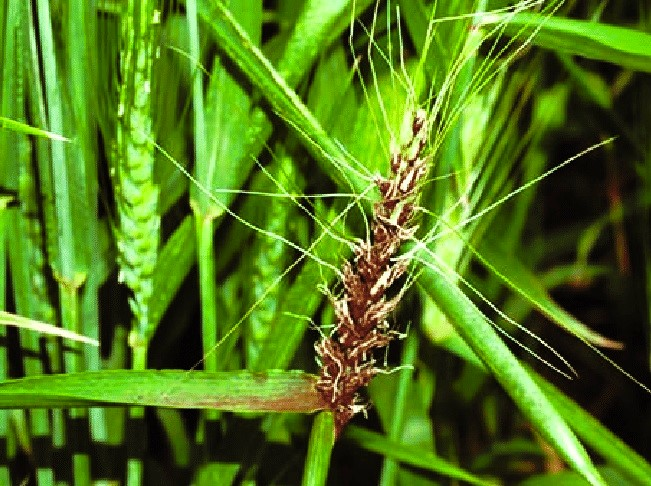Wheat Loose Smut: (320, 141, 436, 392)
